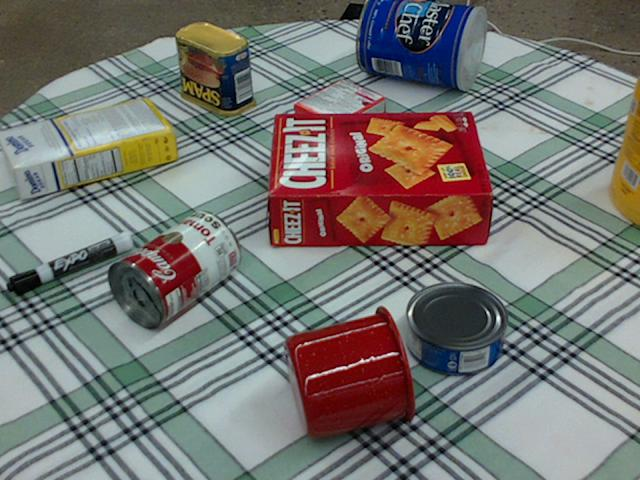cracker_box: (267, 111, 491, 245)
gelatin_box: (292, 76, 384, 143)
large_marker: (4, 231, 130, 295)
master_chef_can: (355, 0, 485, 89)
mug: (282, 301, 418, 440)
mustard_bottle: (609, 72, 639, 225)
potted_meat_can: (175, 22, 255, 115)
sugar_box: (0, 98, 176, 198)
tomato_soup_can: (107, 208, 240, 327)
tuna_fish_can: (406, 281, 509, 375)
